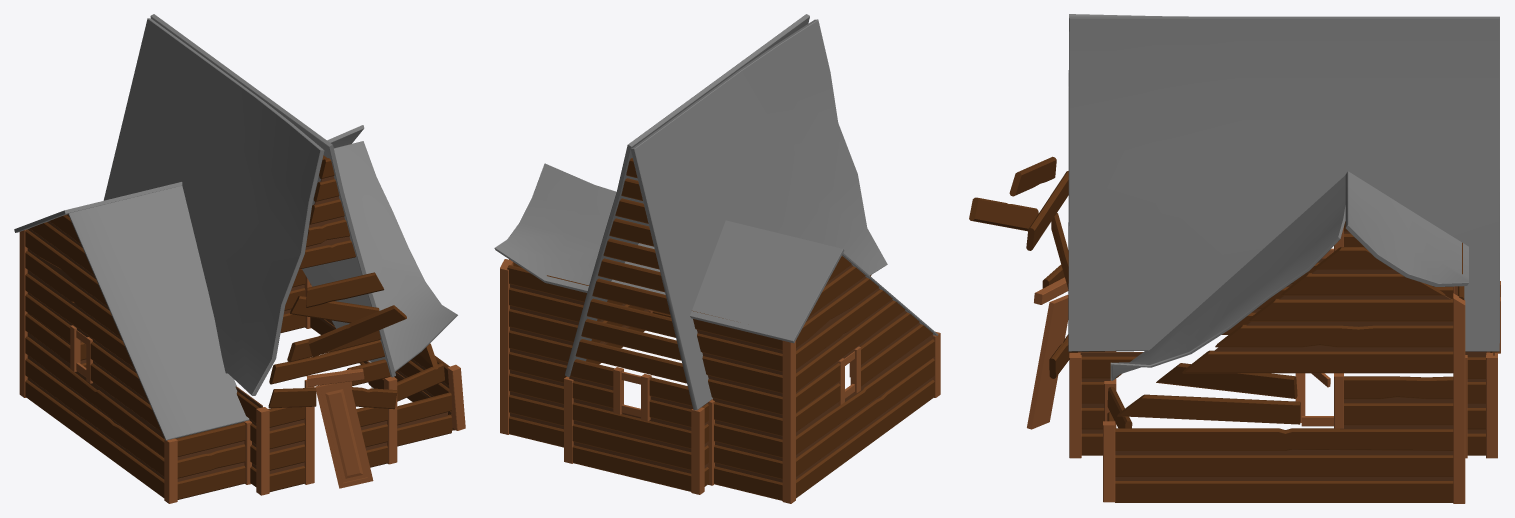
Rendered from HouseDestroyed-L00A.fbx.
The picture shows the model from 3 angles, left to right: view 1: azimuth 30°, elevation 25°; view 2: azimuth 150°, elevation 25°; view 3: azimuth 270°, elevation 25°; orthographic projection. The views are drawn at different scales.
Parts seen in each view (by area): view 1: Destroyed; view 2: Destroyed; view 3: Destroyed.
Boxes of the visible parts, box(x1,y1,x2,y2) form: Destroyed: box(14, 14, 465, 503); Destroyed: box(494, 14, 940, 503); Destroyed: box(969, 14, 1500, 503).
Size of the model in its own units: 431 by 461 by 548.
